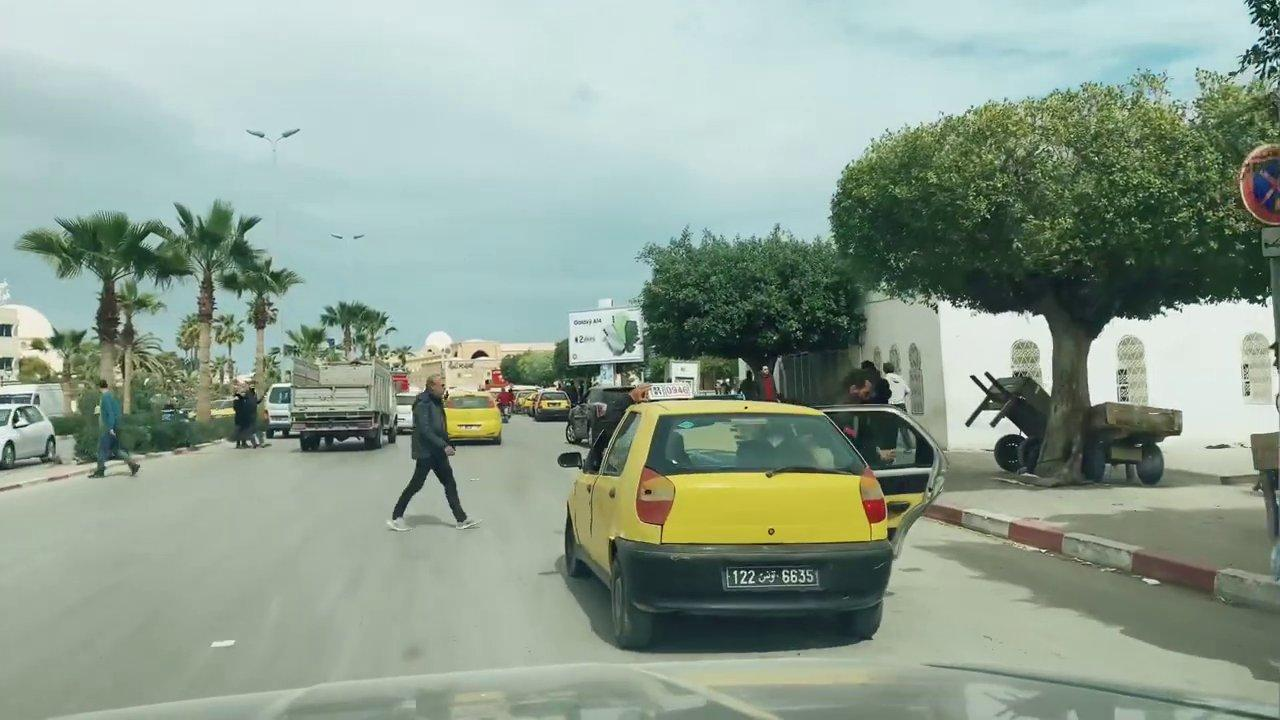no stopping: (1239, 144, 1280, 226)
